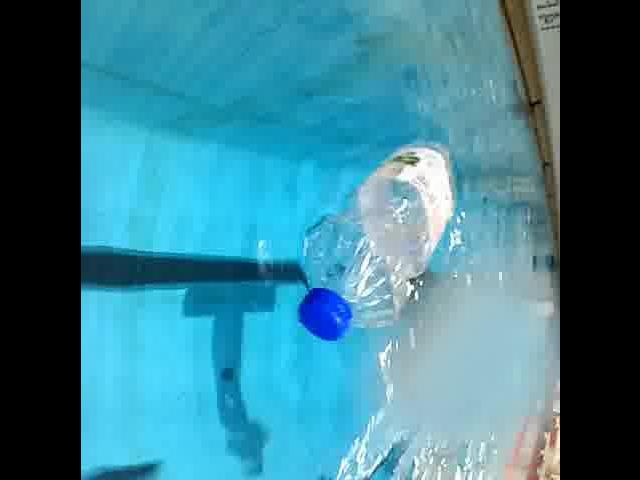Bottle: (292, 140, 458, 344)
